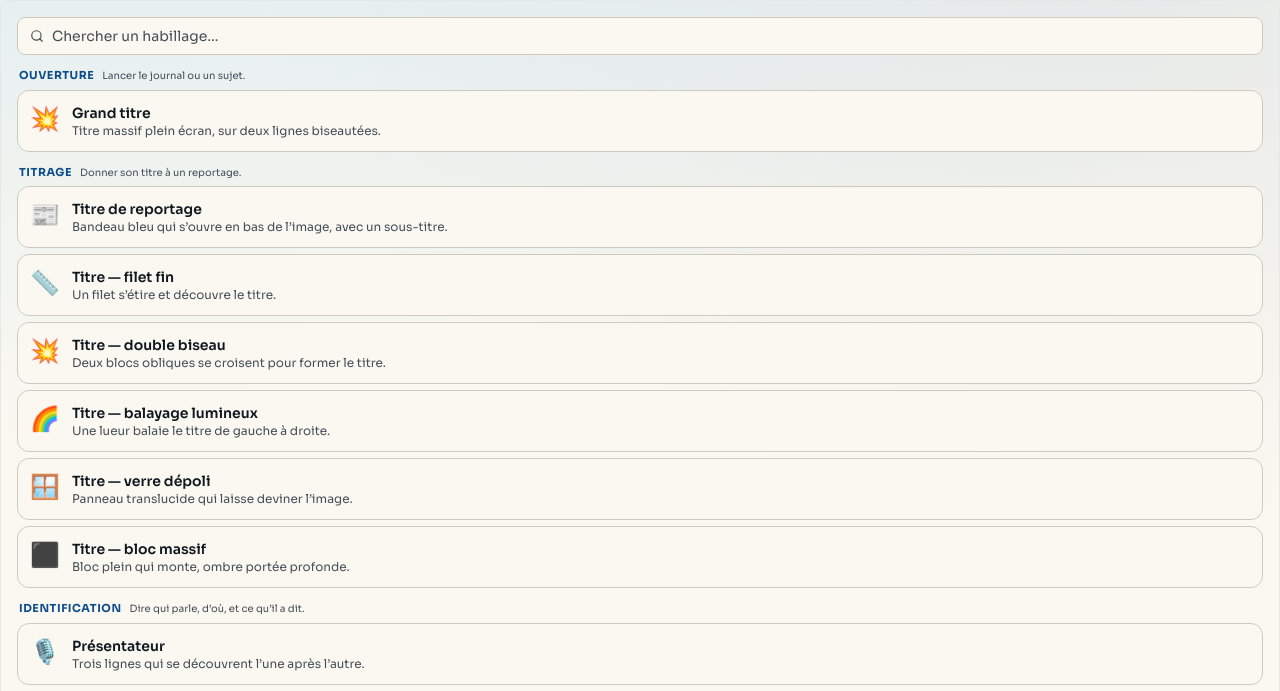
Test case: la recherche › le dit quand rien ne correspond, au lieu de ne rien montrer
Type "zzzz" into the search field labelled "Chercher un habillage" at [651, 36], box [52, 26, 1250, 46]
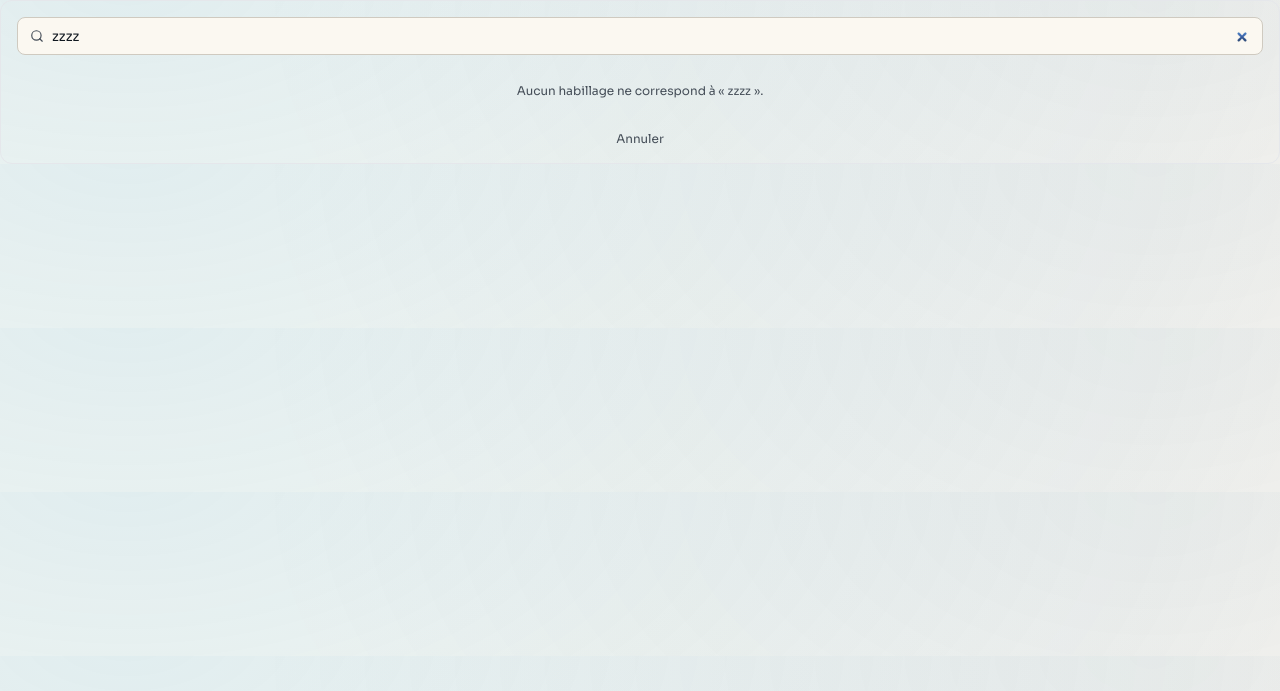
Expected: the text "Aucun habillage ne correspond à « zzzz »." is shown, [517, 83, 763, 98]
